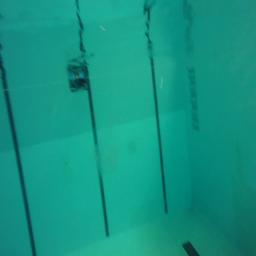front: (68, 72, 91, 93)
